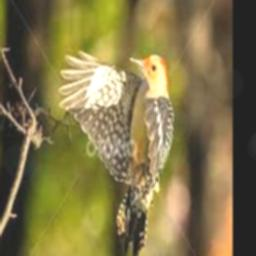Woodpecker: (59, 50, 175, 256)
